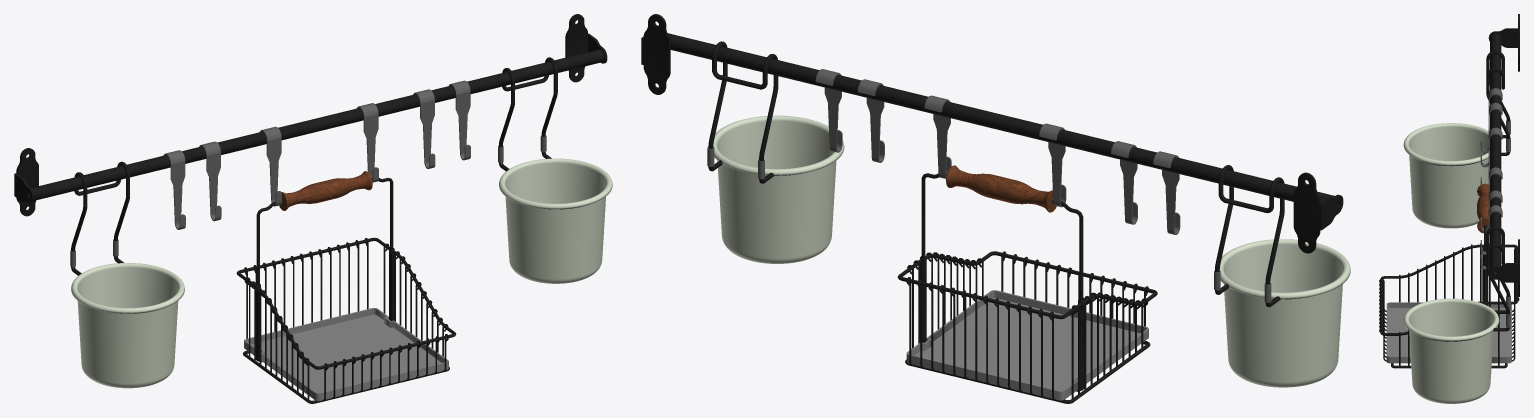
File: 073 - stand divari jadid meshki goldan sabz.glb
3 views of the same model, side by side, from view 1: azimuth 30°, elevation 25°; view 2: azimuth 150°, elevation 25°; view 3: azimuth 270°, elevation 25° (orthographic). The views are drawn at different scales.
Parts seen in each view (by area): view 1: Group#30 [93915] (×2), Group#10 [93900], Group#160 [93086], Group#1 [129989] (×4), [33976] (×2), Group#16 [129995] (×2), Group#13 [93901], Group#88 [93898], [17379], [16496], Group#15 [93899], Group#19 [93896]; view 2: Group#30 [93915] (×2), Group#10 [93900], Group#160 [93086], Group#1 [129989] (×4), [33976] (×2), Group#88 [93898], Group#16 [129995] (×2), Group#13 [93901], [17379], [16496], Group#15 [93899], Group#19 [93896]; view 3: Group#30 [93915] (×2), Group#160 [93086], Group#10 [93900], [33976] (×2), Group#159 [17915] (×2), Group#13 [93901], Group#1 [129989] (×4), Group#88 [93898], Group#16 [129995] (×2), Group#15 [93899], Component#2 [17926], Group#34 [93895] (+1 smaller).
Boxes of the visible parts, left/top/right/bottom form: Group#30 [93915] (×2): left=71, top=158, right=612, bottom=388; Group#10 [93900]: left=244, top=308, right=448, bottom=400; Group#160 [93086]: left=32, top=49, right=604, bottom=200; Group#1 [129989] (×4): left=163, top=80, right=470, bottom=229; [33976] (×2): left=71, top=57, right=587, bottom=313; Group#16 [129995] (×2): left=260, top=103, right=378, bottom=206; Group#13 [93901]: left=236, top=237, right=456, bottom=369; Group#88 [93898]: left=279, top=171, right=372, bottom=210; [17379]: left=565, top=14, right=587, bottom=82; [16496]: left=16, top=148, right=38, bottom=216; Group#15 [93899]: left=256, top=177, right=393, bottom=362; Group#19 [93896]: left=243, top=350, right=449, bottom=403; Group#30 [93915] (×2): left=713, top=115, right=1350, bottom=387; Group#10 [93900]: left=906, top=290, right=1148, bottom=400; Group#160 [93086]: left=667, top=33, right=1334, bottom=201; Group#1 [129989] (×4): left=815, top=69, right=1180, bottom=234; [33976] (×2): left=708, top=41, right=1306, bottom=307; Group#88 [93898]: left=946, top=165, right=1056, bottom=212; Group#16 [129995] (×2): left=924, top=95, right=1066, bottom=207; Group#13 [93901]: left=897, top=251, right=1157, bottom=319; [17379]: left=643, top=14, right=670, bottom=94; [16496]: left=1293, top=172, right=1320, bottom=253; Group#15 [93899]: left=921, top=173, right=1083, bottom=391; Group#19 [93896]: left=905, top=340, right=1150, bottom=403; Group#30 [93915] (×2): left=1403, top=123, right=1499, bottom=403; Group#160 [93086]: left=1490, top=33, right=1501, bottom=274; Group#10 [93900]: left=1386, top=302, right=1511, bottom=363; [33976] (×2): left=1418, top=50, right=1510, bottom=341; Group#159 [17915] (×2): left=1488, top=28, right=1519, bottom=282; Group#13 [93901]: left=1380, top=244, right=1518, bottom=335; Group#1 [129989] (×4): left=1480, top=88, right=1502, bottom=269; Group#88 [93898]: left=1477, top=183, right=1489, bottom=233; Group#16 [129995] (×2): left=1480, top=127, right=1502, bottom=231; Group#15 [93899]: left=1484, top=225, right=1486, bottom=301; Component#2 [17926]: left=1379, top=296, right=1519, bottom=361; Group#34 [93895]: left=1482, top=245, right=1488, bottom=300.
Bounding box in the file's own units: 0.806 × 0.337 × 0.2035.
8 materials, 3 textured.
